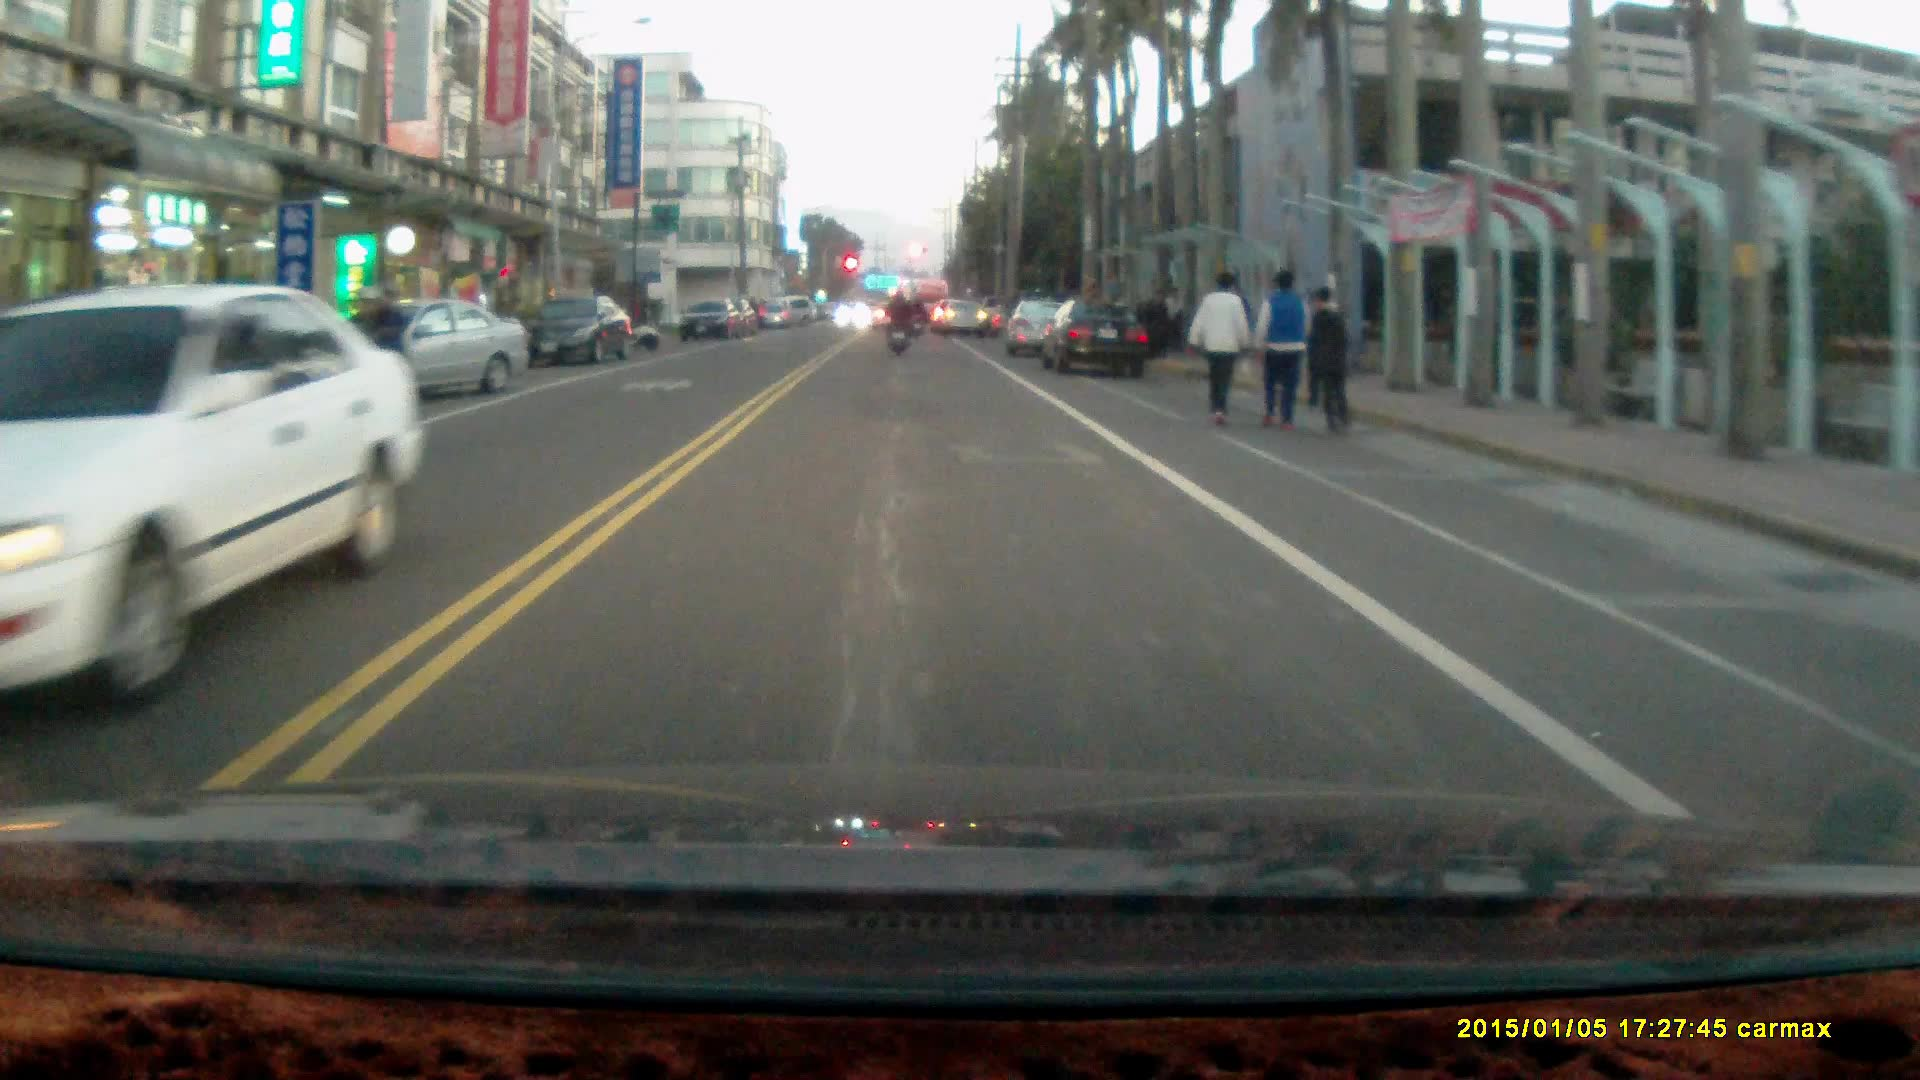pedestrian: (1187, 266, 1251, 428), (1253, 266, 1312, 433), (1303, 287, 1353, 439)
rider: (319, 283, 411, 462), (883, 285, 914, 356)
vehicle: (1, 286, 432, 678), (359, 300, 531, 404), (1042, 297, 1154, 380), (526, 295, 633, 370), (1008, 301, 1090, 362), (678, 298, 746, 342)
